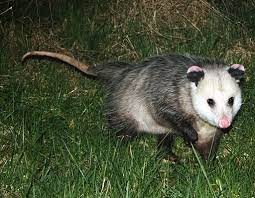opossum: (20, 47, 248, 168)
